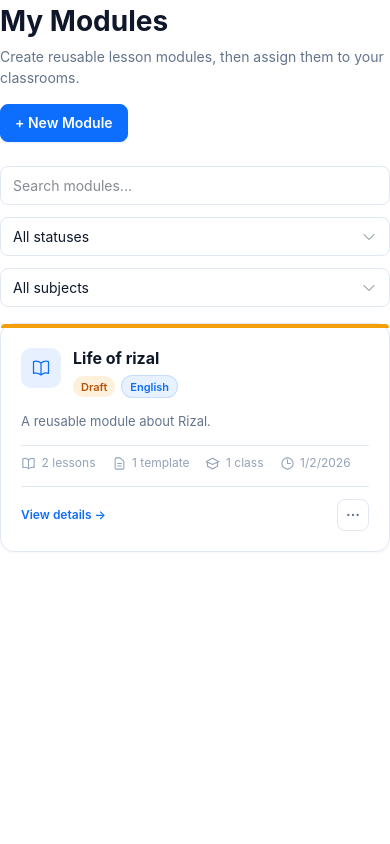
Scenario: MyModulesPage list › opens the card action menu without navigating and closes it on Escape or outside click
Click the button named "Actions for Life of rizal": (353, 515) [337,499,369,531]
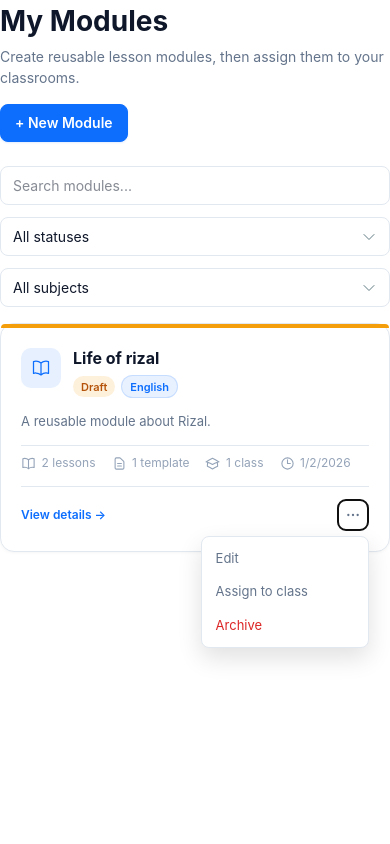
Expected: the number of menu items is 3, [206,541,364,575]; [206,575,364,609]; [206,609,364,643]
Press Escape
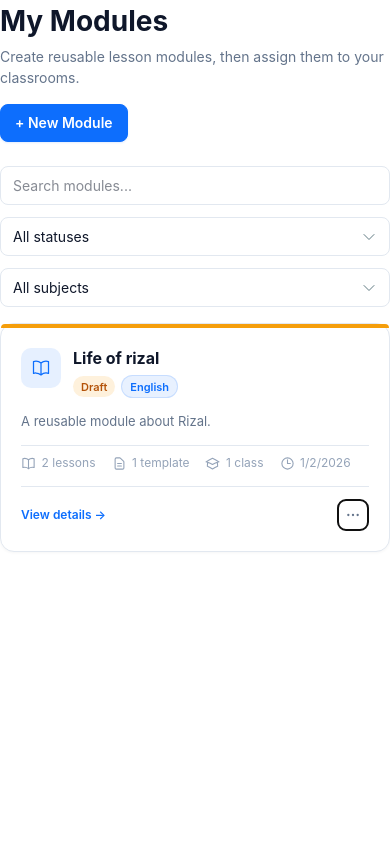
Expected: the menu is gone
Click the button named "Actions for Life of rizal": (353, 515) [337,499,369,531]
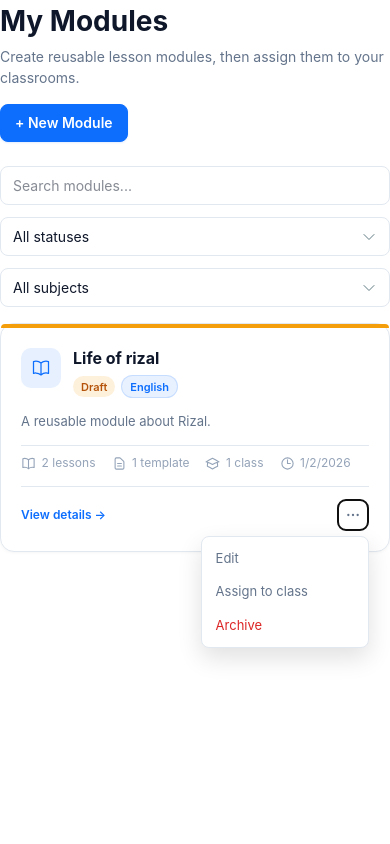
Expected: the menu is shown, [201,536,369,648]
Click the heading "My Modules": (84, 21) [0,4,168,38]
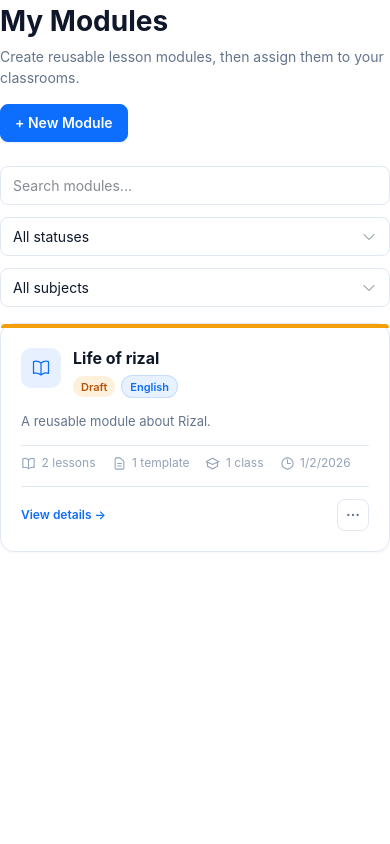
Expected: the menu is gone
Click the button named "Actions for Life of rizal": (353, 515) [337,499,369,531]
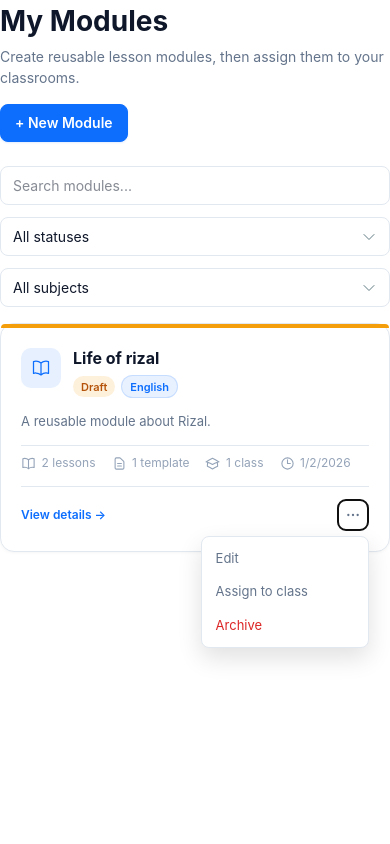
Click the menu item "Edit": (285, 558) [206,541,364,575]
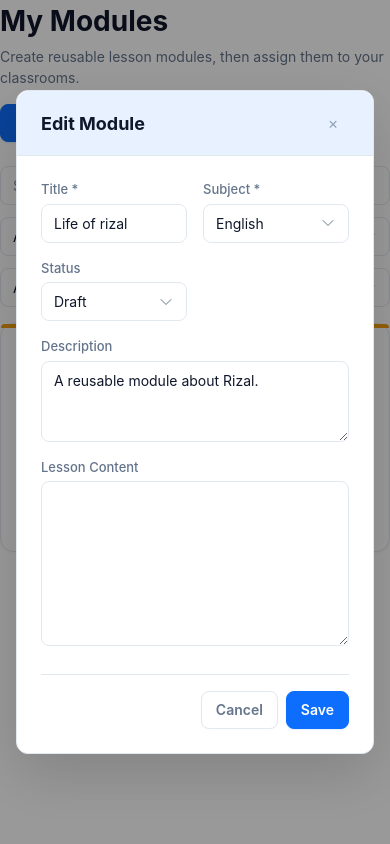
Expected: the heading "Edit Module" is shown, [41,110,145,136]
Expected: the menu is gone
